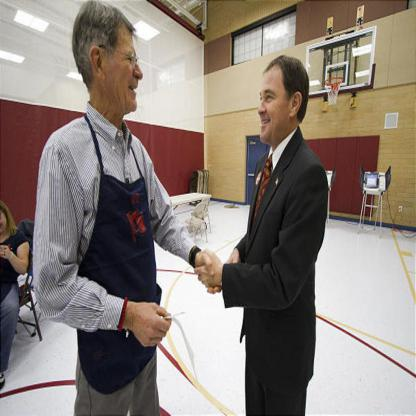face: (109, 16, 144, 113), (260, 66, 292, 143)
